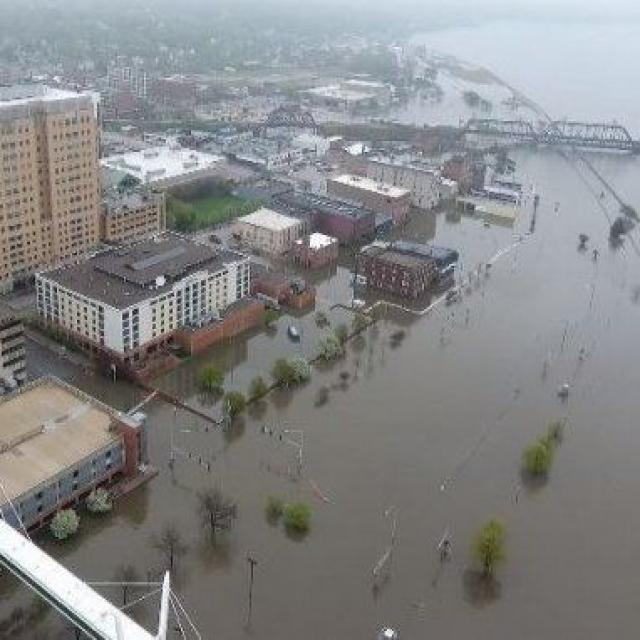flood: (32, 149, 640, 640), (469, 522, 640, 640), (154, 313, 327, 420), (29, 336, 145, 410), (1, 578, 76, 640), (316, 266, 354, 326)
house: (40, 224, 274, 374), (0, 87, 104, 286), (0, 385, 138, 526), (104, 144, 230, 199), (360, 240, 443, 304), (329, 172, 416, 230), (239, 204, 300, 256), (319, 80, 396, 112), (295, 226, 337, 278), (246, 136, 308, 170)
